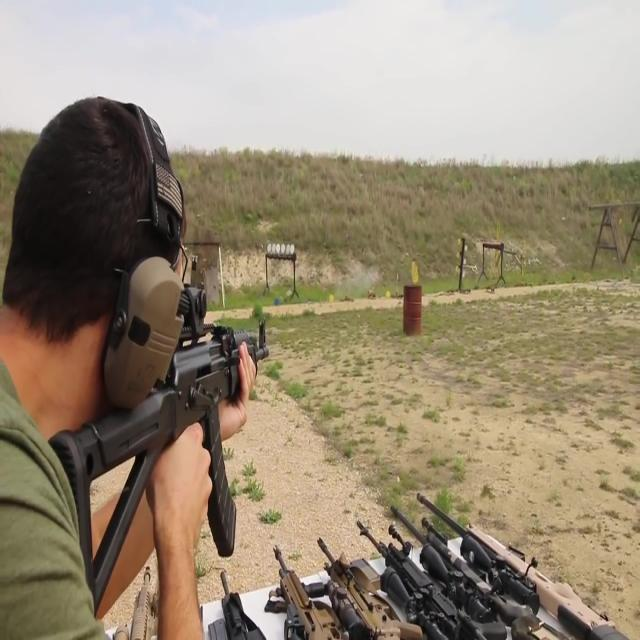Weapon: (2, 245, 343, 615), (118, 408, 640, 640)
